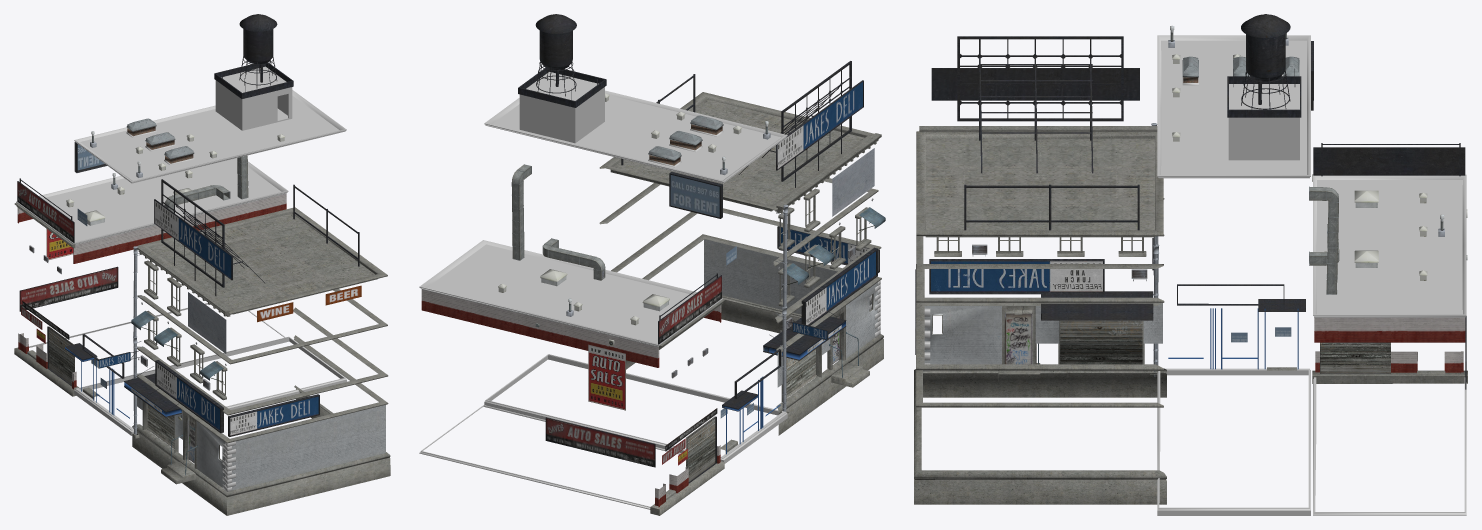
File: u2SEBuild10.gltf
The picture shows the model from 3 angles, left to right: view 1: azimuth 30°, elevation 25°; view 2: azimuth 150°, elevation 25°; view 3: azimuth 270°, elevation 25°; orthographic projection. The views are drawn at different scales.
Visible parts, largest first — view 1: u2SEBuild10; view 2: u2SEBuild10; view 3: u2SEBuild10.
Boxes of the visible parts, bbox=[...] form: u2SEBuild10: bbox=[14, 14, 390, 515]; u2SEBuild10: bbox=[419, 14, 885, 515]; u2SEBuild10: bbox=[914, 14, 1467, 515].
Bounding box in the file's own units: 7.23 × 10.11 × 10.37.
